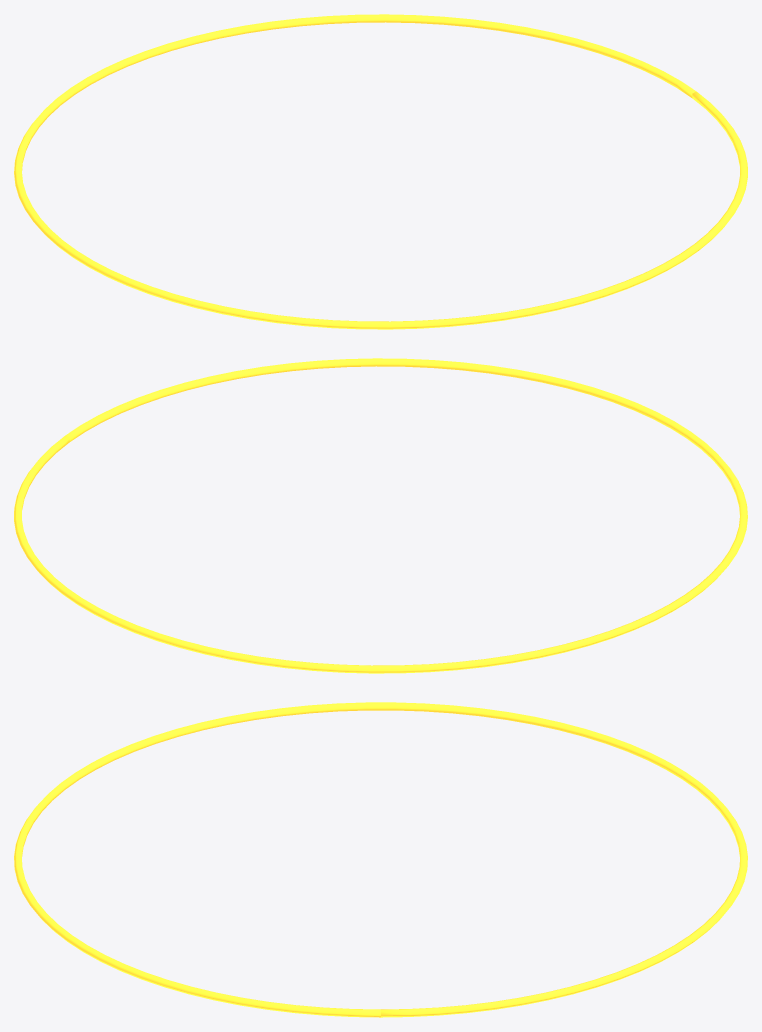
The model's file is SM_CoreOrbit_0.fbx.
3 renders of one model, top to bottom at view 1: azimuth 30°, elevation 25°; view 2: azimuth 150°, elevation 25°; view 3: azimuth 270°, elevation 25°, orthographic.
Visible parts, largest first — view 1: SM_CoreOrbit_0.001; view 2: SM_CoreOrbit_0.001; view 3: SM_CoreOrbit_0.001.
Boxes of the visible parts, bbox=[...] form: SM_CoreOrbit_0.001: bbox=[14, 14, 747, 329]; SM_CoreOrbit_0.001: bbox=[14, 358, 747, 673]; SM_CoreOrbit_0.001: bbox=[14, 702, 747, 1017].
Bounding box in the file's own units: 425 × 425 × 4.76.
